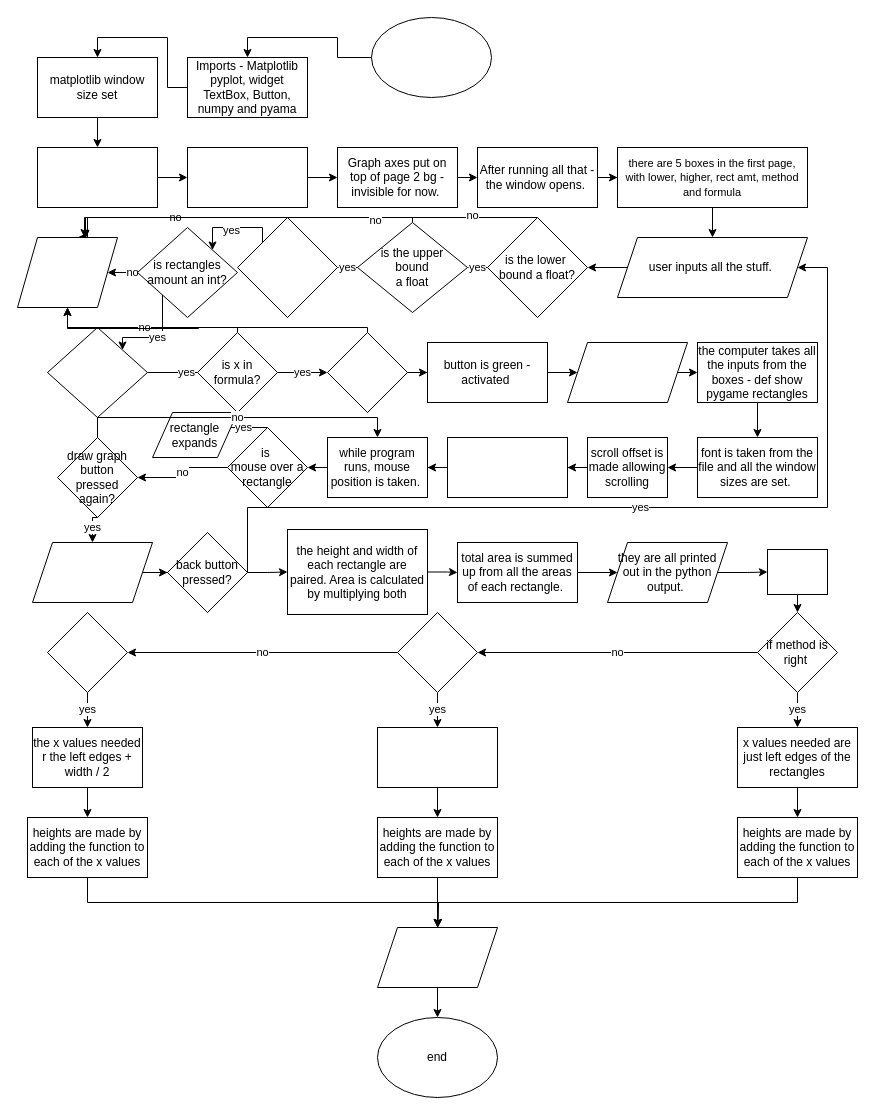
The diagram is 875 pixels wide and 1115 high, and some of its shapes have lost their labels. The centre of each missing label's shape, as x and y in pixels:
"button pressed?" goes at pixel 627 372.
"graph is also drawn by-" goes at pixel 797 571.
"graph is printed and all outputs are sent" goes at pixel 437 957.
"is method in options?" goes at pixel 367 372.
"Is method left" goes at pixel 437 652.
"is method midpoint?" goes at pixel 87 652.
"Is rectangles num positive?" goes at pixel 97 372.
"is the upper higher than lower" goes at pixel 287 267.
"message pops telling user to enter a valid input" goes at pixel 67 272.
"page 1 axes and background colour added" goes at pixel 97 177.
"page 2 axes and bg set. Makes it invisible and Frame set off." goes at pixel 247 177.
"page 2 opens up with the graph" goes at pixel 92 572.
"Start" goes at pixel 431 57.
"the rectangles widths are based on the max height of the rectangles" goes at pixel 507 467.
"the x values needed r left edges + width" goes at pixel 437 757.
